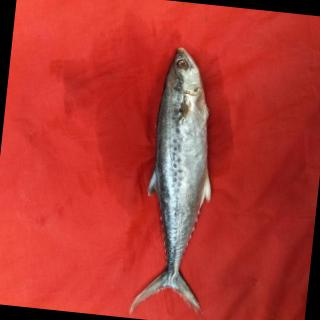Ikan: (115, 37, 244, 320)
